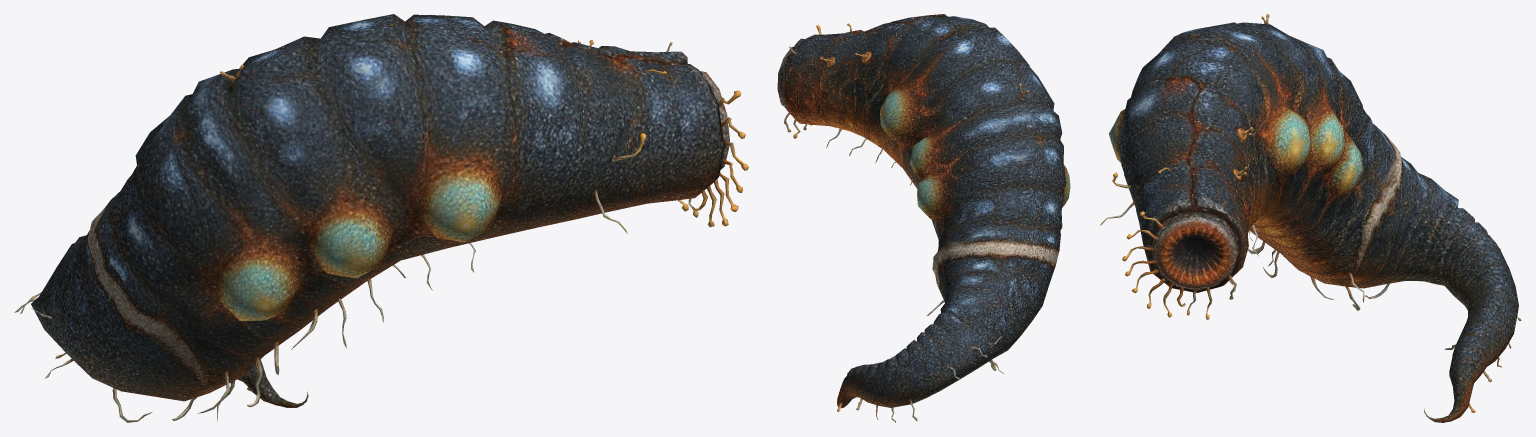
File: hadal-basalt-lantern-leech-echo.glb
3 renders of one model, left to right at view 1: azimuth 30°, elevation 25°; view 2: azimuth 150°, elevation 25°; view 3: azimuth 270°, elevation 25°, orthographic. The views are drawn at different scales.
Visible parts, largest first — view 1: tripo_node_9e7d2d0b-0fb1-4eb4-b359-27e6528a2522; view 2: tripo_node_9e7d2d0b-0fb1-4eb4-b359-27e6528a2522; view 3: tripo_node_9e7d2d0b-0fb1-4eb4-b359-27e6528a2522.
Part boxes in pixels (<box>): tripo_node_9e7d2d0b-0fb1-4eb4-b359-27e6528a2522: <box>14,14,748,422</box>; tripo_node_9e7d2d0b-0fb1-4eb4-b359-27e6528a2522: <box>777,14,1070,422</box>; tripo_node_9e7d2d0b-0fb1-4eb4-b359-27e6528a2522: <box>1100,14,1521,422</box>.
Size of the model in its own units: 0.998 by 0.9434 by 0.9707.
Materials: 1 (1 with a texture image).
